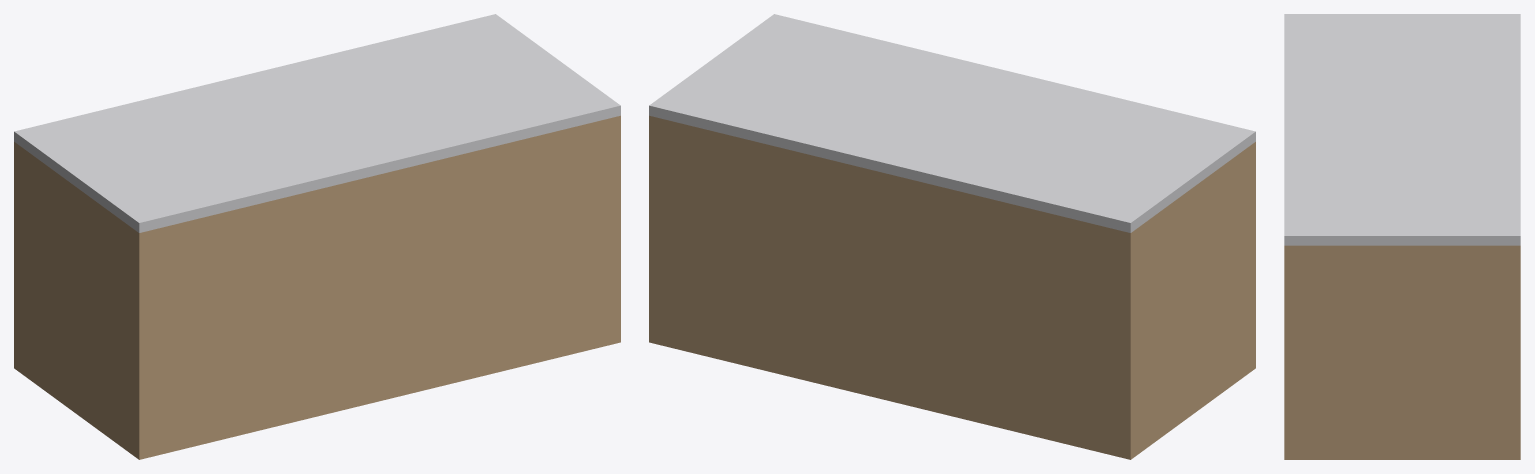
File: counter.fbx
The picture shows the model from 3 angles, left to right: view 1: azimuth 30°, elevation 25°; view 2: azimuth 150°, elevation 25°; view 3: azimuth 270°, elevation 25°; orthographic projection. The views are drawn at different scales.
Parts seen in each view (by area): view 1: counter; view 2: counter; view 3: counter.
Boxes of the visible parts, bbox=[...] form: counter: bbox=[14, 14, 620, 459]; counter: bbox=[649, 14, 1255, 459]; counter: bbox=[1284, 14, 1520, 459].
Size of the model in its own units: 2 by 0.94 by 0.9.
